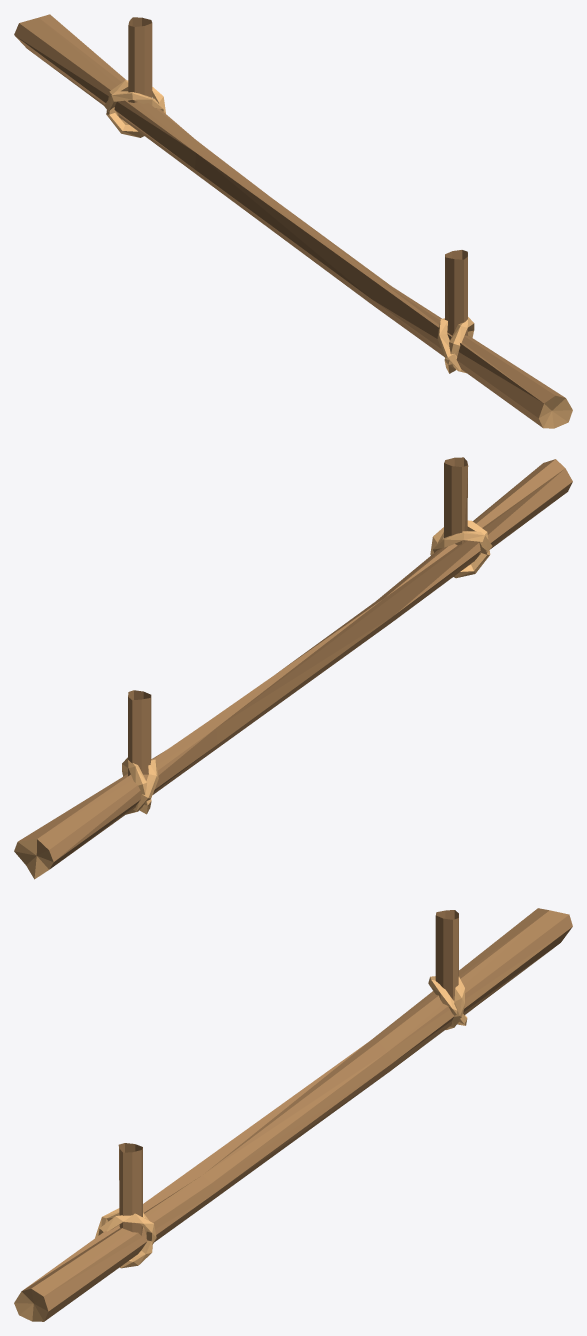
The model's file is SFM_BC_Butcher_Stall_Attachable.fbx.
3 views of the same model, one above another, from view 1: azimuth 30°, elevation 25°; view 2: azimuth 150°, elevation 25°; view 3: azimuth 330°, elevation 25° (orthographic).
Parts seen in each view (by area): view 1: SFM_BC_Butcher_Stall_Attachable; view 2: SFM_BC_Butcher_Stall_Attachable; view 3: SFM_BC_Butcher_Stall_Attachable.
Part boxes in pixels (bbox=[...]): SFM_BC_Butcher_Stall_Attachable: bbox=[14, 14, 572, 428]; SFM_BC_Butcher_Stall_Attachable: bbox=[14, 457, 572, 879]; SFM_BC_Butcher_Stall_Attachable: bbox=[14, 908, 572, 1321].
Bounding box in the file's own units: 15.28 × 39.13 × 324.
